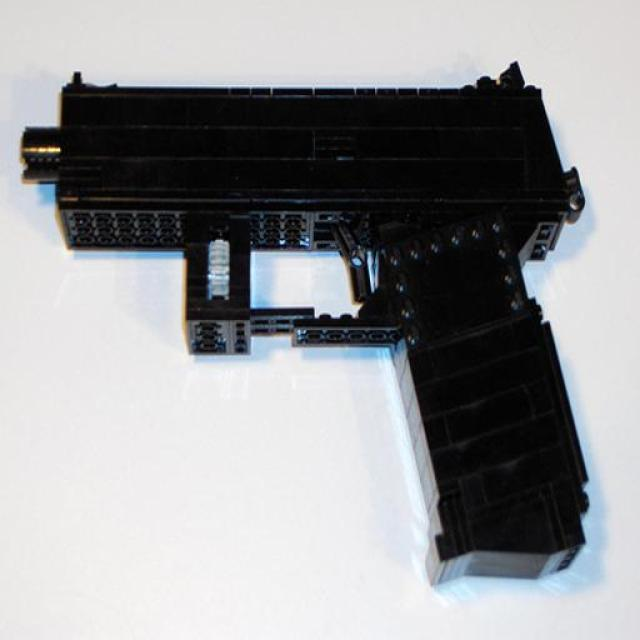pistol: (20, 58, 590, 586)
